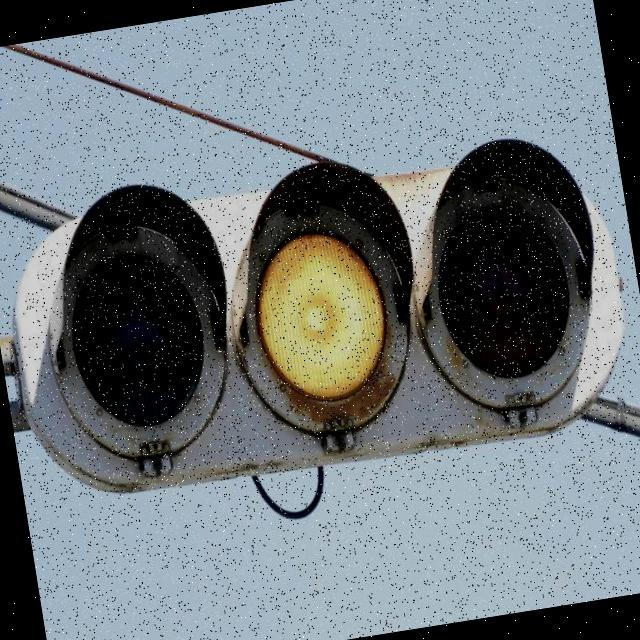yellow_light: (237, 177, 417, 422)
